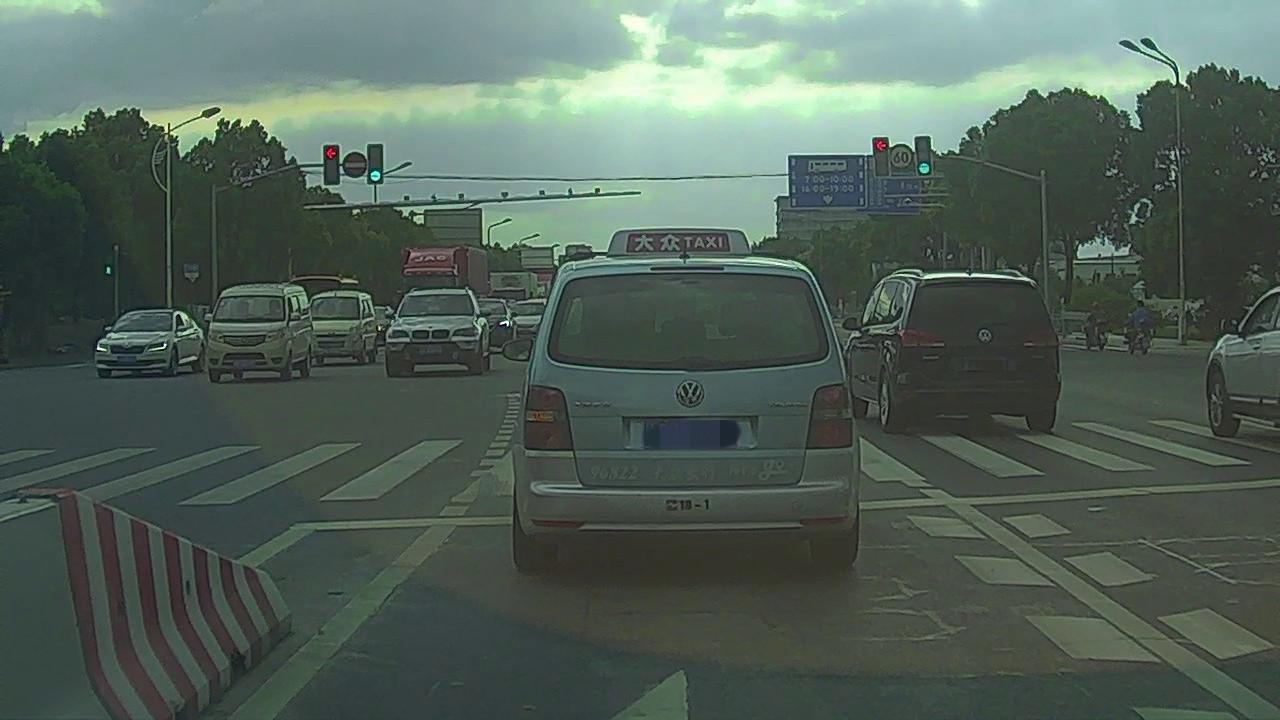traffic_light: (367, 144, 384, 185), (323, 145, 340, 185), (872, 137, 889, 177), (915, 137, 931, 176)
